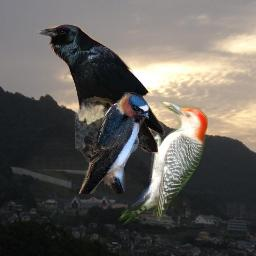Crow: (37, 24, 165, 154)
Swallow: (75, 92, 149, 194)
Woodpecker: (115, 96, 208, 230)
